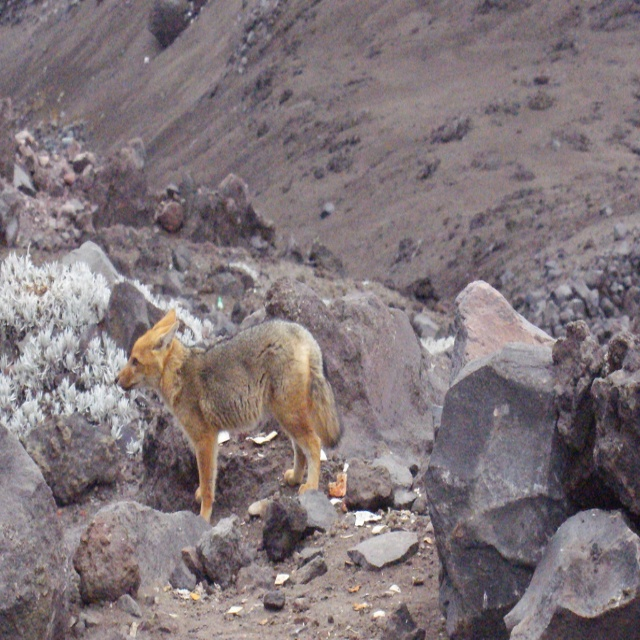Fox: (114, 308, 341, 525)
